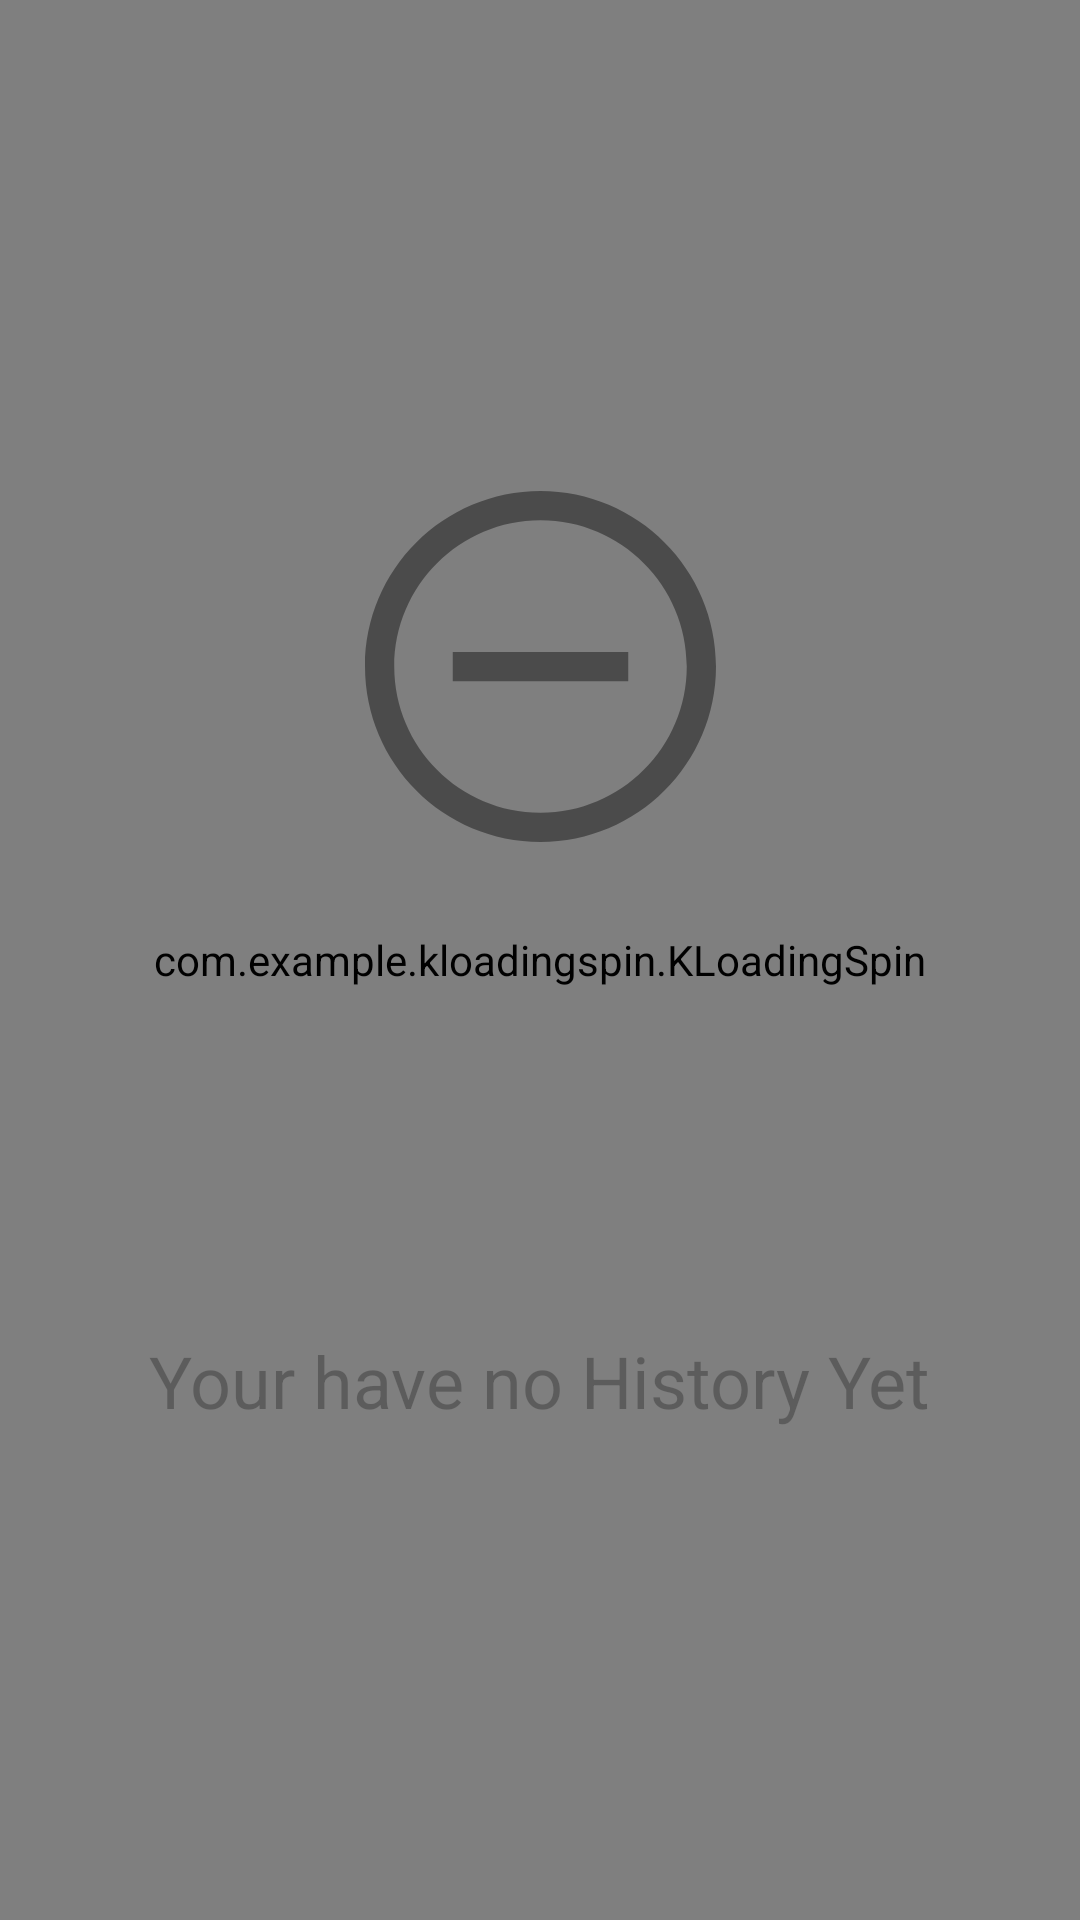

Icon click points for this 1080*1920 phone screenshot, format [x,y]:
minus: [540,666]
